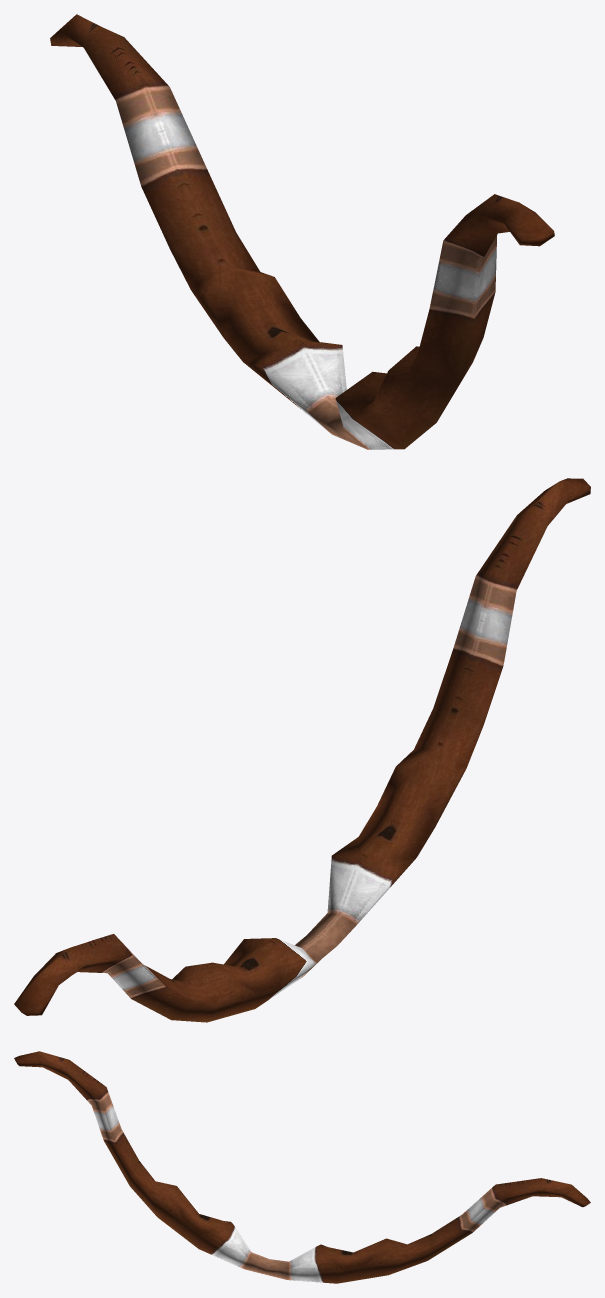
The model's file is rangedweapon-base.glb.
3 renders of one model, top to bottom at view 1: azimuth 30°, elevation 25°; view 2: azimuth 150°, elevation 25°; view 3: azimuth 270°, elevation 25°, orthographic. The views are drawn at different scales.
Bounding box in the file's own units: 0.1581 × 0.5085 × 1.23.
Materials: 1 (1 with a texture image).
